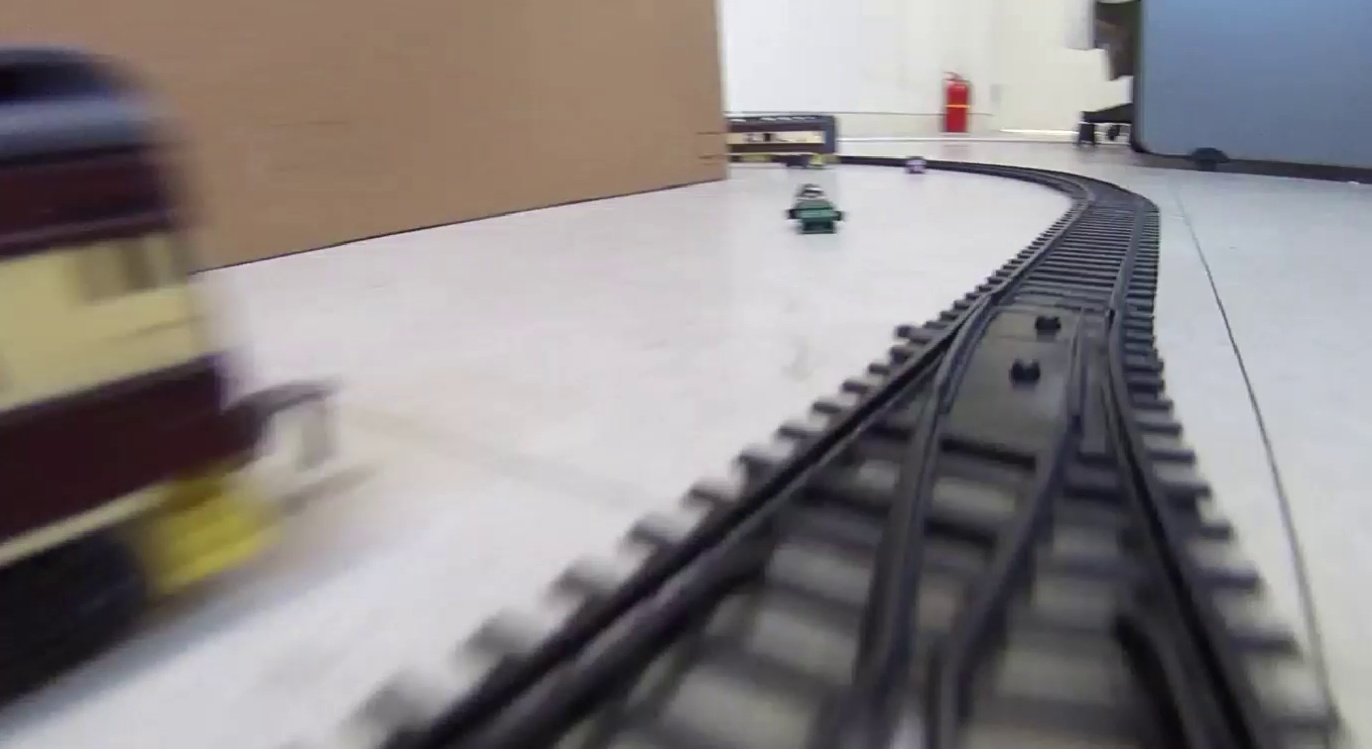people: (783, 179, 848, 235)
